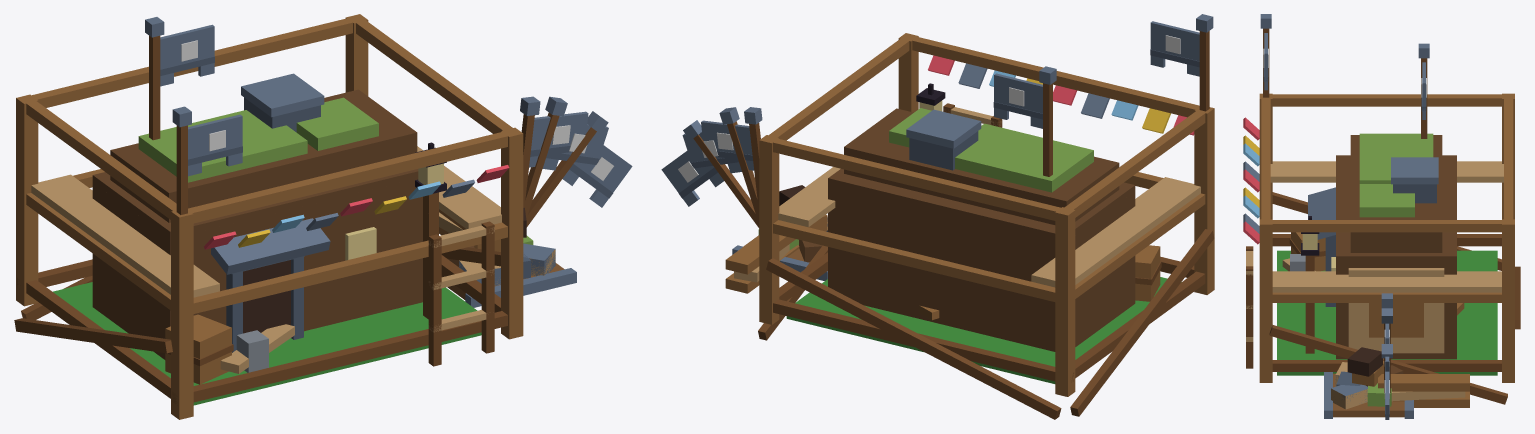
The model's file is raccoon-home.glb.
3 renders of one model, left to right at view 1: azimuth 30°, elevation 25°; view 2: azimuth 150°, elevation 25°; view 3: azimuth 270°, elevation 25°, orthographic. The views are drawn at different scales.
Visible parts, largest first — view 1: scaffold-mesh, built-mesh, dismantle-75-mesh, dismantle-50-mesh, dismantle-25-mesh, scaffold-banner, banner, dismantle-25-banner, dismantle-75-banner, flag-pole, dismantle-25-flag-pole, scaffold-flag-pole (+3 smaller); view 2: scaffold-mesh, built-mesh, dismantle-75-mesh, dismantle-50-mesh, dismantle-25-mesh, scaffold-banner, banner, dismantle-25-banner, dismantle-75-banner, flag-pole, dismantle-25-flag-pole, dismantle-50-banner (+3 smaller); view 3: scaffold-mesh, built-mesh, dismantle-25-mesh, dismantle-75-mesh, dismantle-50-mesh, flag-pole, scaffold-flag-pole, banner, scaffold-banner.
Boxes of the visible parts, box(x1,y1,x2,y2) form: scaffold-mesh: box(14, 14, 523, 419); built-mesh: box(92, 73, 446, 372); dismantle-75-mesh: box(92, 178, 576, 384); dismantle-50-mesh: box(92, 230, 576, 382); dismantle-25-mesh: box(100, 207, 576, 384); scaffold-banner: box(188, 114, 242, 176); banner: box(160, 24, 214, 86); dismantle-25-banner: box(562, 137, 632, 207); dismantle-75-banner: box(529, 111, 588, 167); flag-pole: box(145, 17, 164, 140); dismantle-25-flag-pole: box(526, 111, 608, 227); scaffold-flag-pole: box(172, 106, 191, 214); scaffold-mesh: box(725, 33, 1214, 419); built-mesh: box(786, 83, 1135, 383); dismantle-75-mesh: box(732, 184, 1160, 351); dismantle-50-mesh: box(732, 230, 1160, 351); dismantle-25-mesh: box(732, 185, 1161, 351); scaffold-banner: box(1150, 21, 1199, 76); banner: box(993, 73, 1042, 128); dismantle-25-banner: box(661, 144, 723, 206); dismantle-75-banner: box(701, 120, 754, 170); flag-pole: box(1039, 66, 1056, 176); dismantle-25-flag-pole: box(683, 120, 759, 228); dismantle-50-banner: box(682, 130, 741, 177); scaffold-mesh: box(1243, 93, 1520, 407); built-mesh: box(1292, 133, 1456, 353); dismantle-25-mesh: box(1283, 236, 1464, 418); dismantle-75-mesh: box(1291, 232, 1444, 417); dismantle-50-mesh: box(1277, 232, 1497, 418); flag-pole: box(1418, 43, 1429, 138); scaffold-flag-pole: box(1260, 14, 1271, 97); banner: box(1421, 62, 1426, 119); scaffold-banner: box(1263, 33, 1268, 90).
Bounding box in the file's own units: 2.65 × 1.55 × 1.51.
